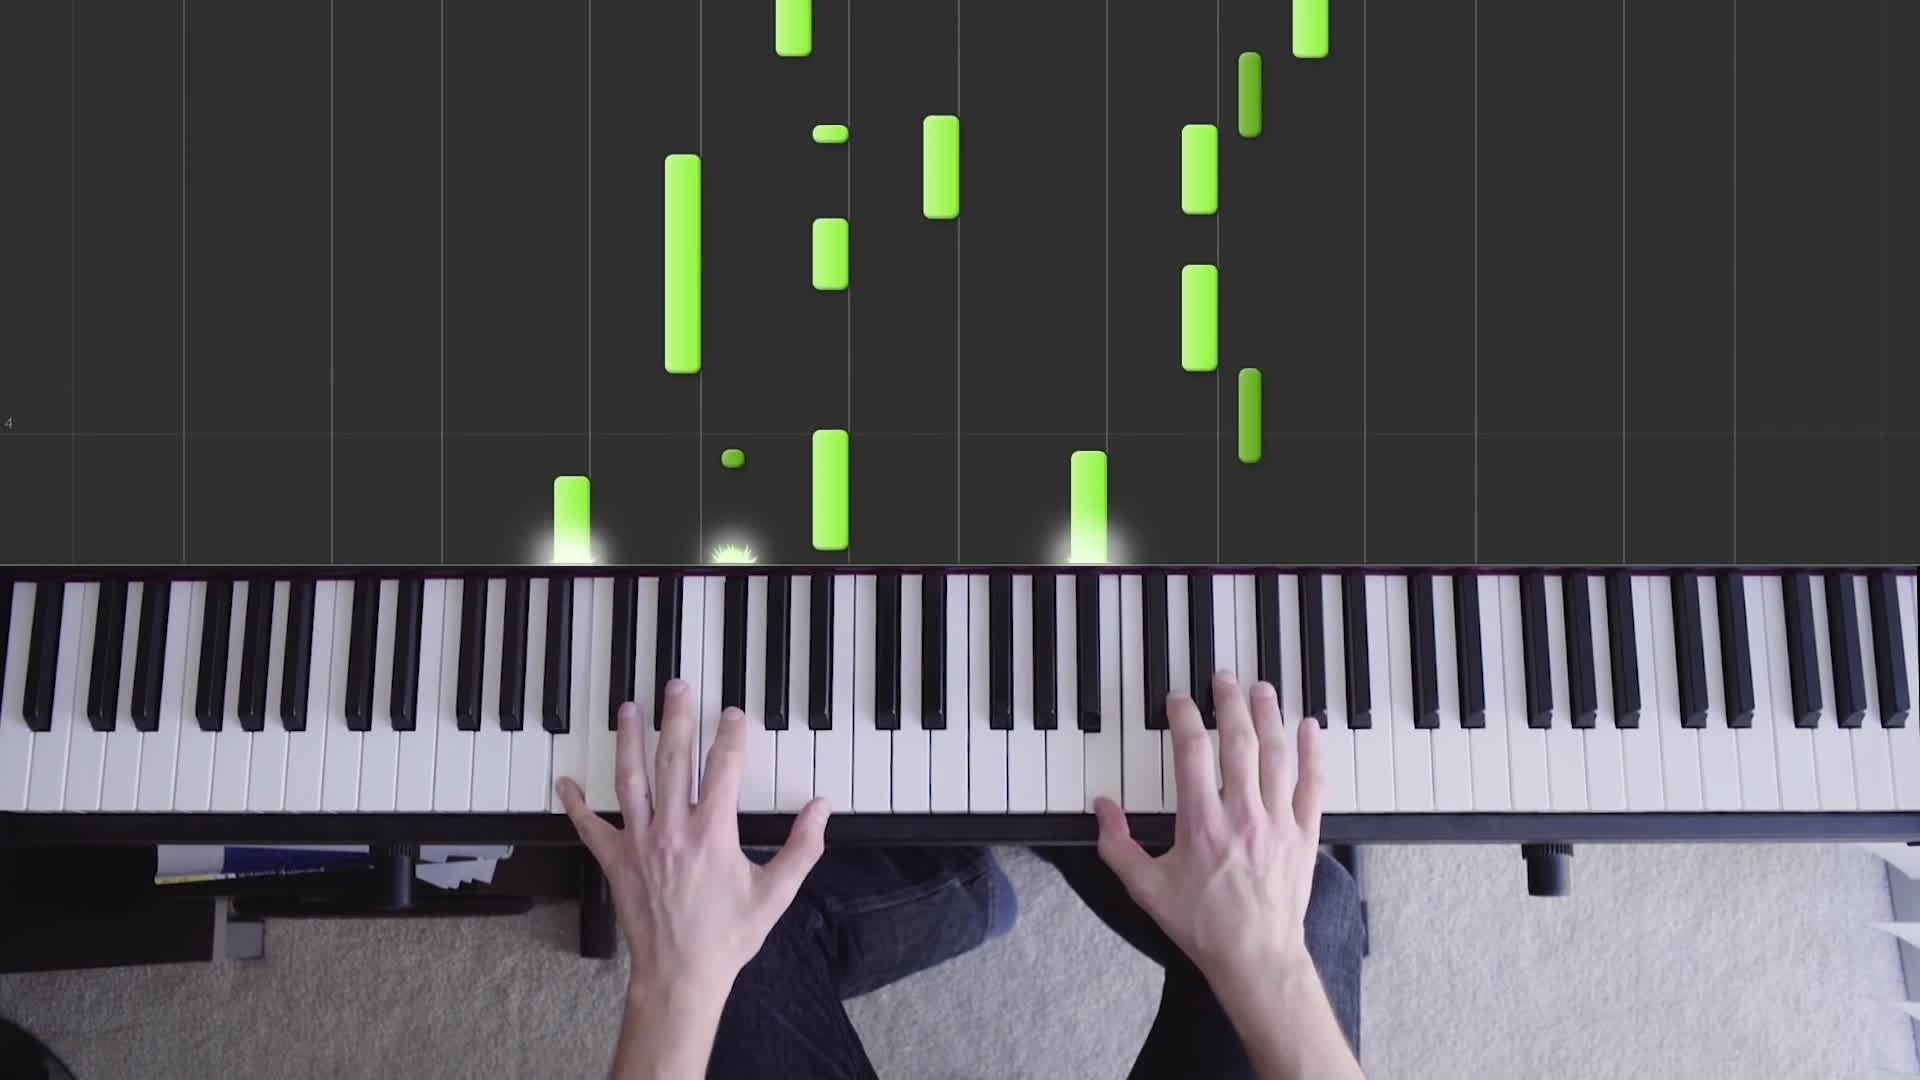left: (553, 676, 835, 957)
right: (1095, 665, 1327, 968)
